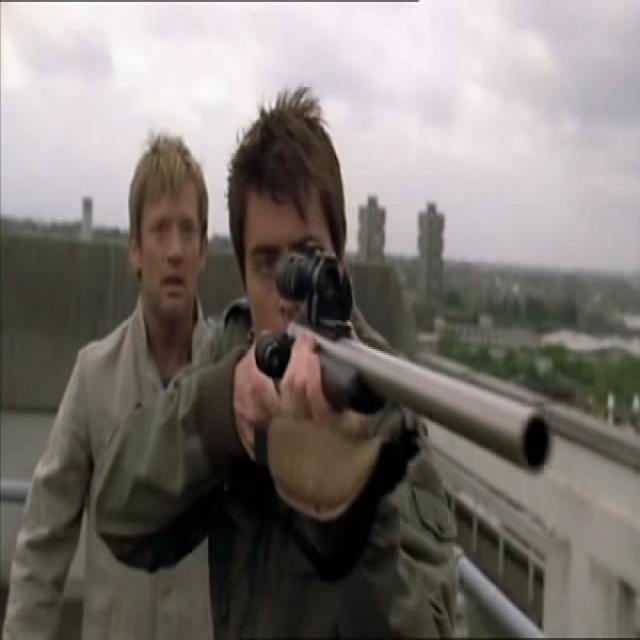rifle: (254, 251, 555, 479)
